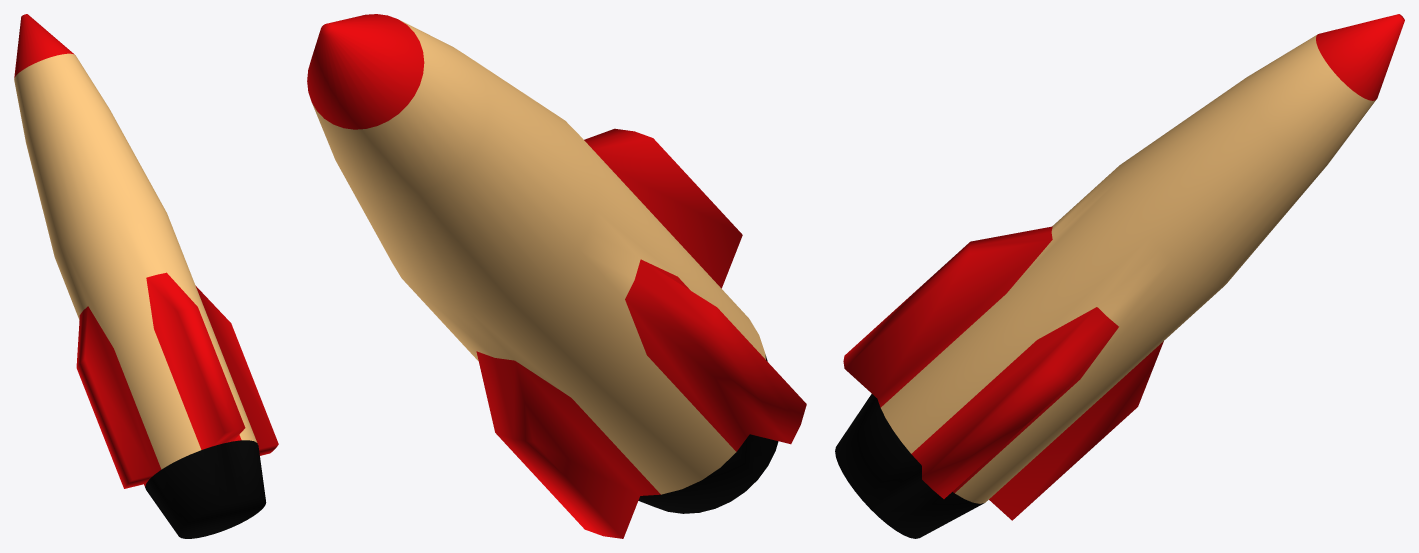
The model's file is missile.fbx.
3 renders of one model, left to right at view 1: azimuth 30°, elevation 25°; view 2: azimuth 150°, elevation 25°; view 3: azimuth 270°, elevation 25°, orthographic. The views are drawn at different scales.
Parts seen in each view (by area): view 1: Cylinder; view 2: Cylinder; view 3: Cylinder.
Part boxes in pixels (<box>): Cylinder: <box>14,14,278,538</box>; Cylinder: <box>307,14,806,538</box>; Cylinder: <box>835,14,1404,538</box>.
Size of the model in its own units: 191 by 482 by 482.
